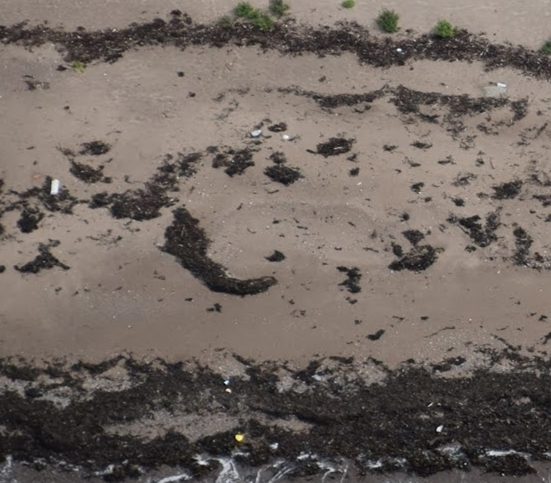white_in_green: (29, 165, 82, 209), (218, 418, 262, 458)
